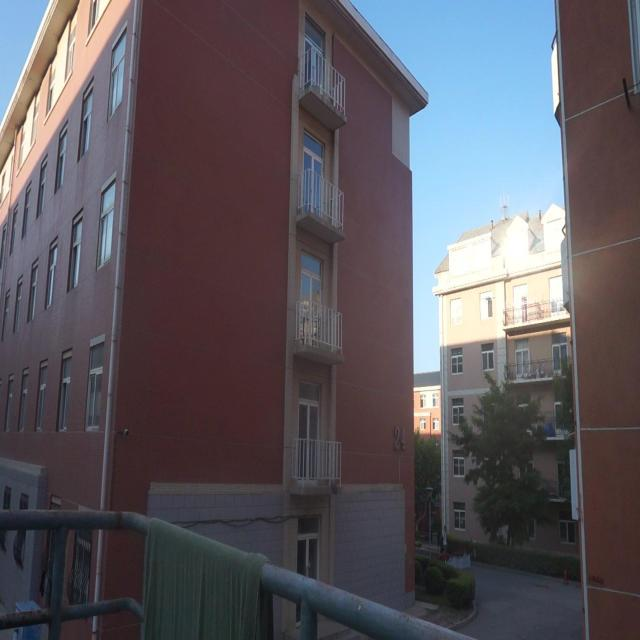UAV: (483, 296, 495, 305)
